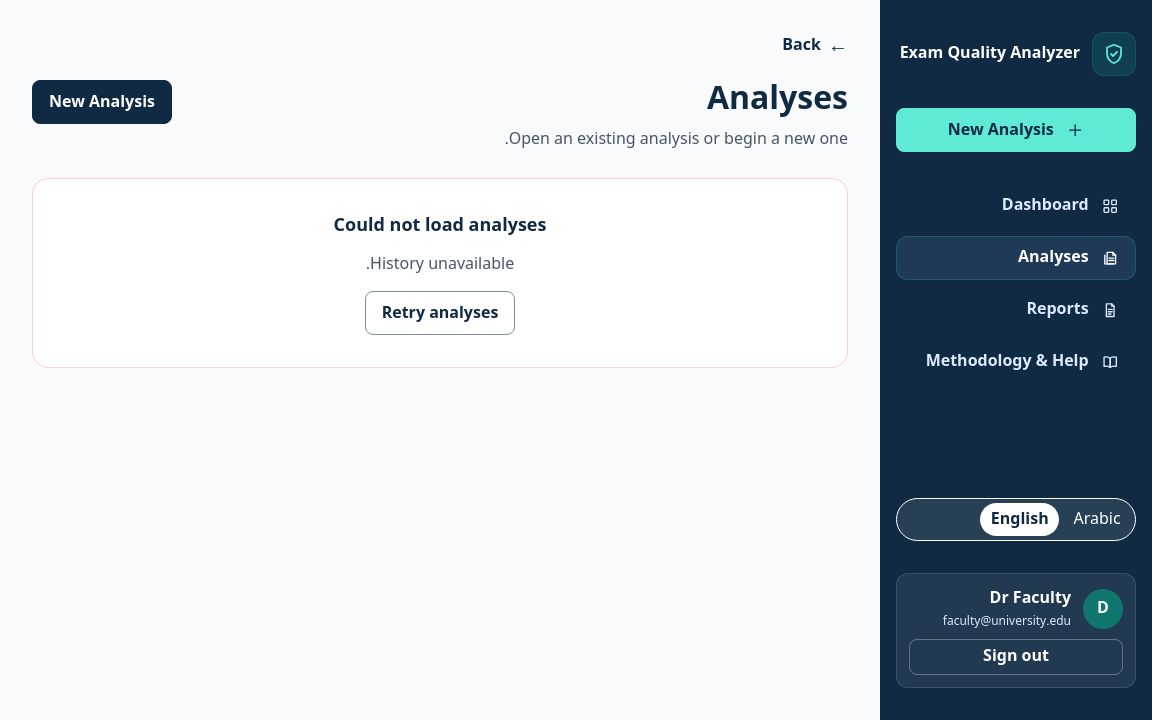
Scenario: AppRoutes › retries only a failed analysis-history request
The width and height of the screenshot is (1152, 720).
What coordinates should you click on to do the following:
click the button "Retry analyses"
I would click on:
 (440, 313)
Its box is [365, 291, 515, 335].
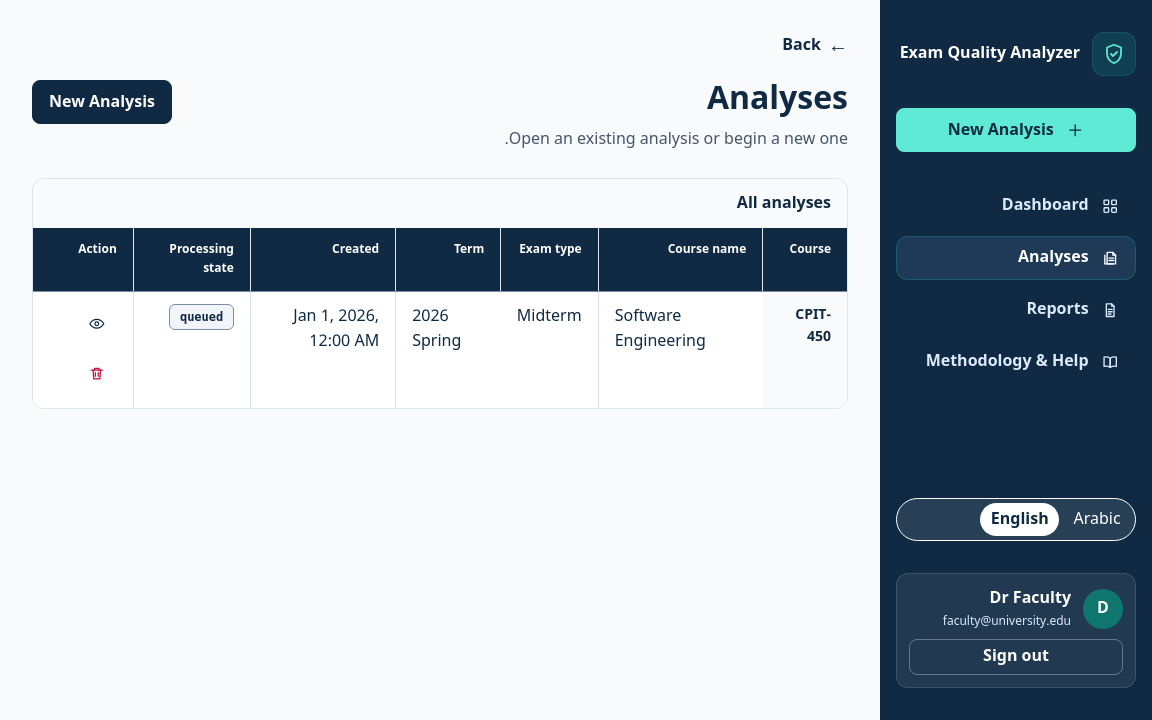
Now the text "CPIT-450" is shown, box [795, 300, 831, 351]
